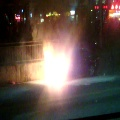fire: (35, 43, 70, 91)
